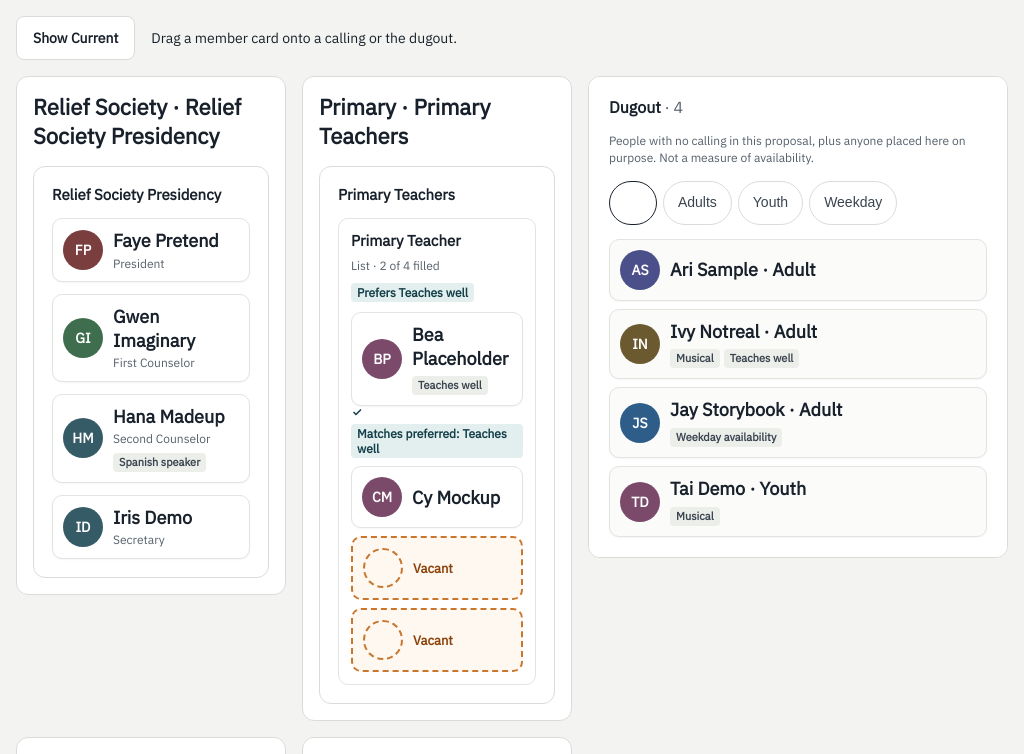
Test: dnd preview › starts with Ivy in the dugout and the teacher vacancy open, and applies drops with core
This screenshot has width=1024, height=754.
Press the mouse on the element showing "IA Ivy Notreal · Adult Musical Teaches well" at (798, 344), box x1=609 y1=309 x2=987 y2=379
(page scrolled)
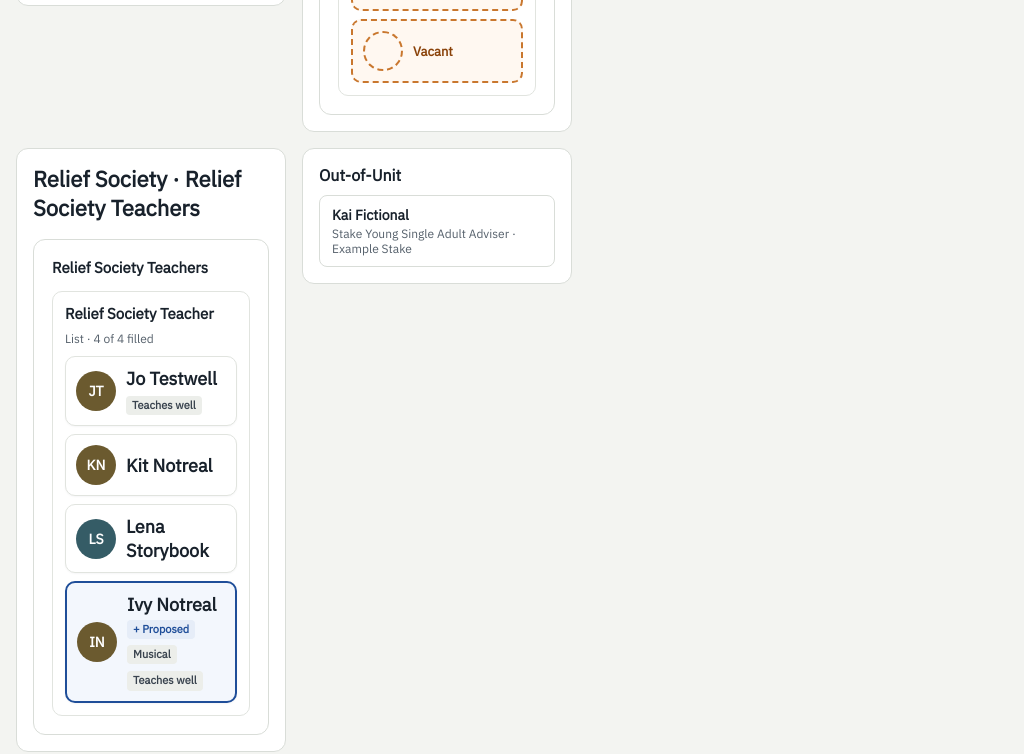
Result: the list named "Relief Society Teacher" shows "Ivy Notreal" at x1=127 y1=593 x2=216 y2=616
